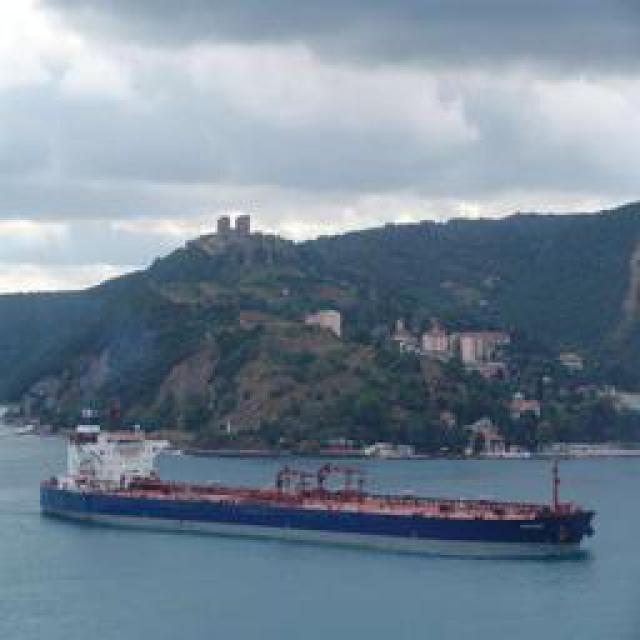Ship: (40, 441, 598, 564)
